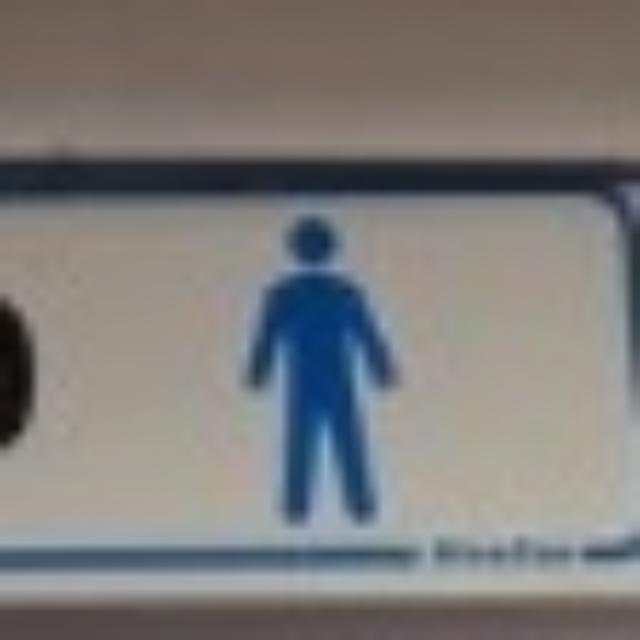mens_restroom: (0, 160, 629, 594)
